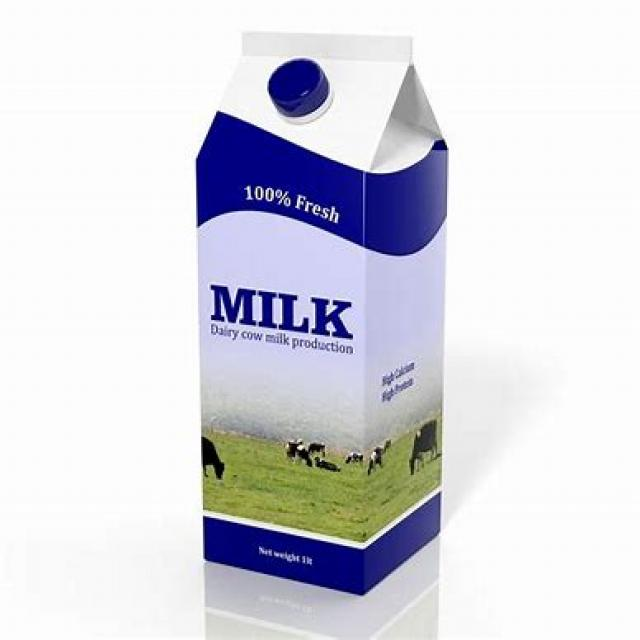non_white_jug: (188, 19, 444, 598)
